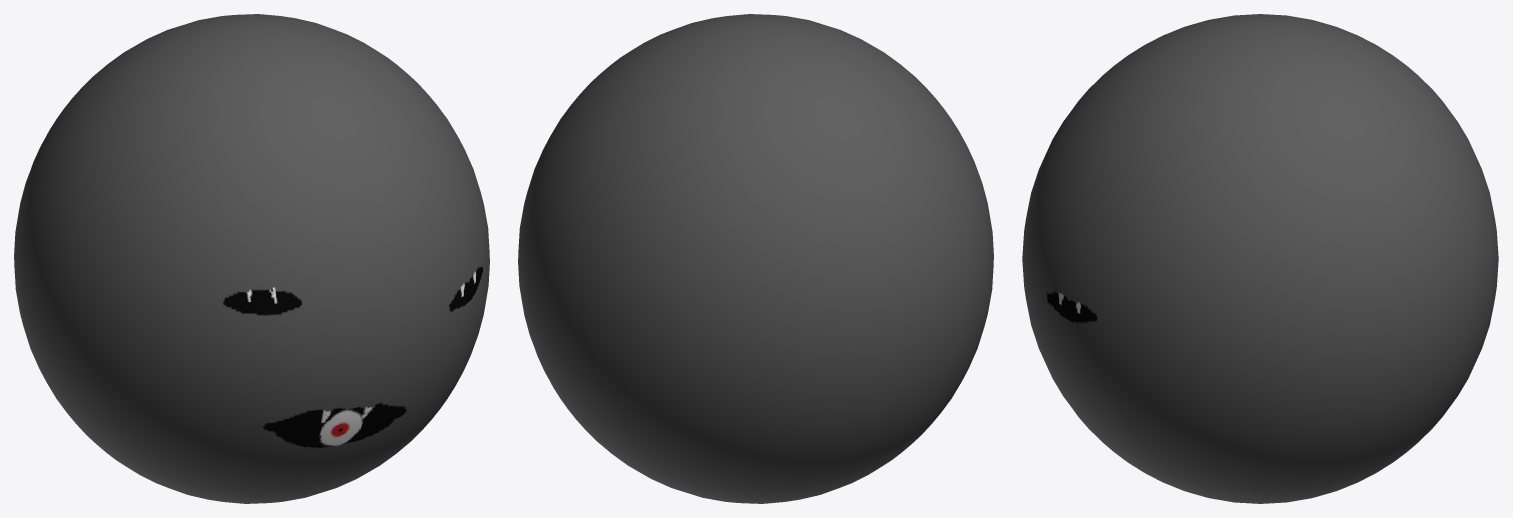
Rendered from Garblit.glb.
The picture shows the model from 3 angles, left to right: view 1: azimuth 30°, elevation 25°; view 2: azimuth 150°, elevation 25°; view 3: azimuth 270°, elevation 25°; orthographic projection.
Visible parts, largest first — view 1: mesh_id27; view 2: mesh_id27; view 3: mesh_id27.
Part boxes in pixels (x1,y1,x2,y2): mesh_id27: (14,14,489,503); mesh_id27: (518,14,993,503); mesh_id27: (1022,14,1498,503).
Bounding box in the file's own units: 0.2201 × 0.2279 × 0.2201.
Materials: 1 (1 with a texture image).
